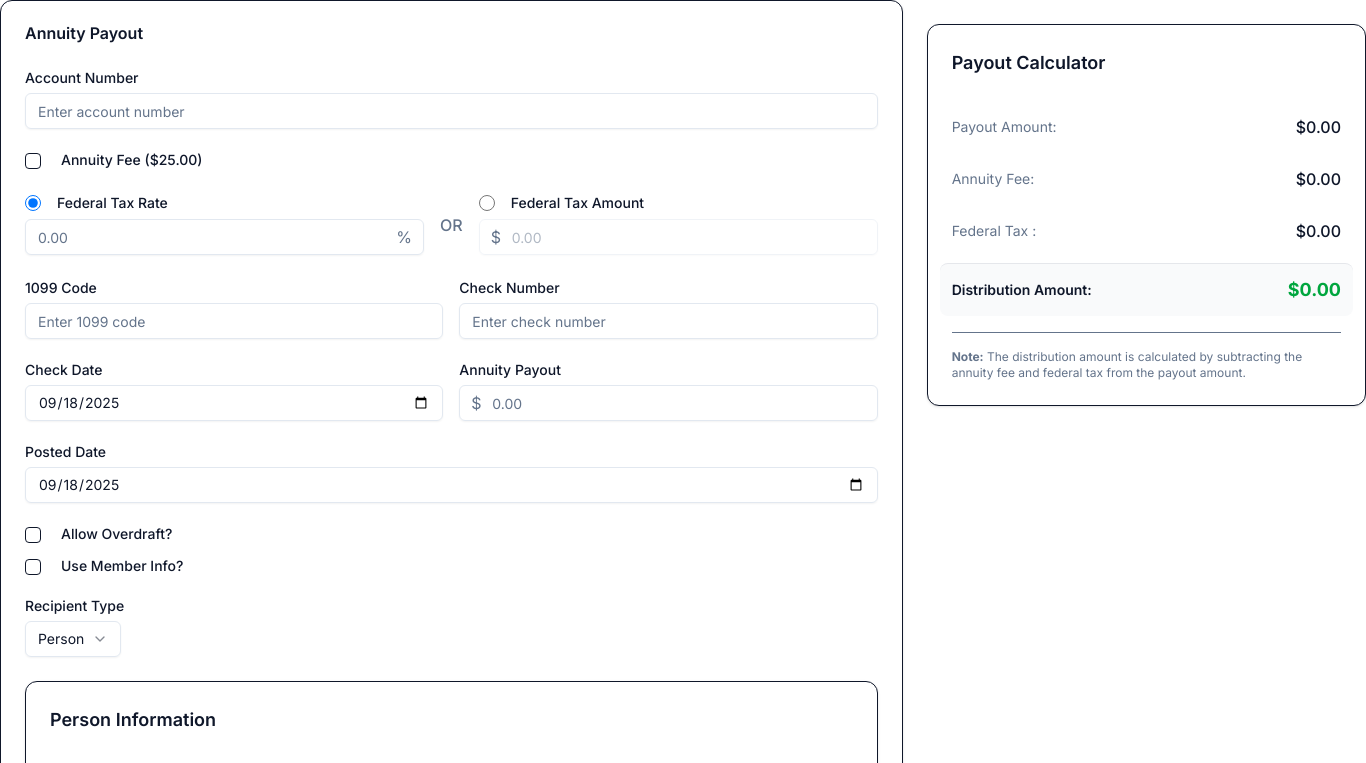
Scenario: AnnuityPayoutForm - Use Member Info Behavior › hides recipient type and person form when "Use Member Info" is checked
This screenshot has width=1366, height=763.
Expected: the text "Recipient Type" is shown, [25,597,124,614]
Expected: the text "Person Information" is shown, [50,709,216,730]
Note: Check the "Use Member Info" checkbox
Click the checkbox named "use member info". click: (33,567)
box: [25,559,41,575]
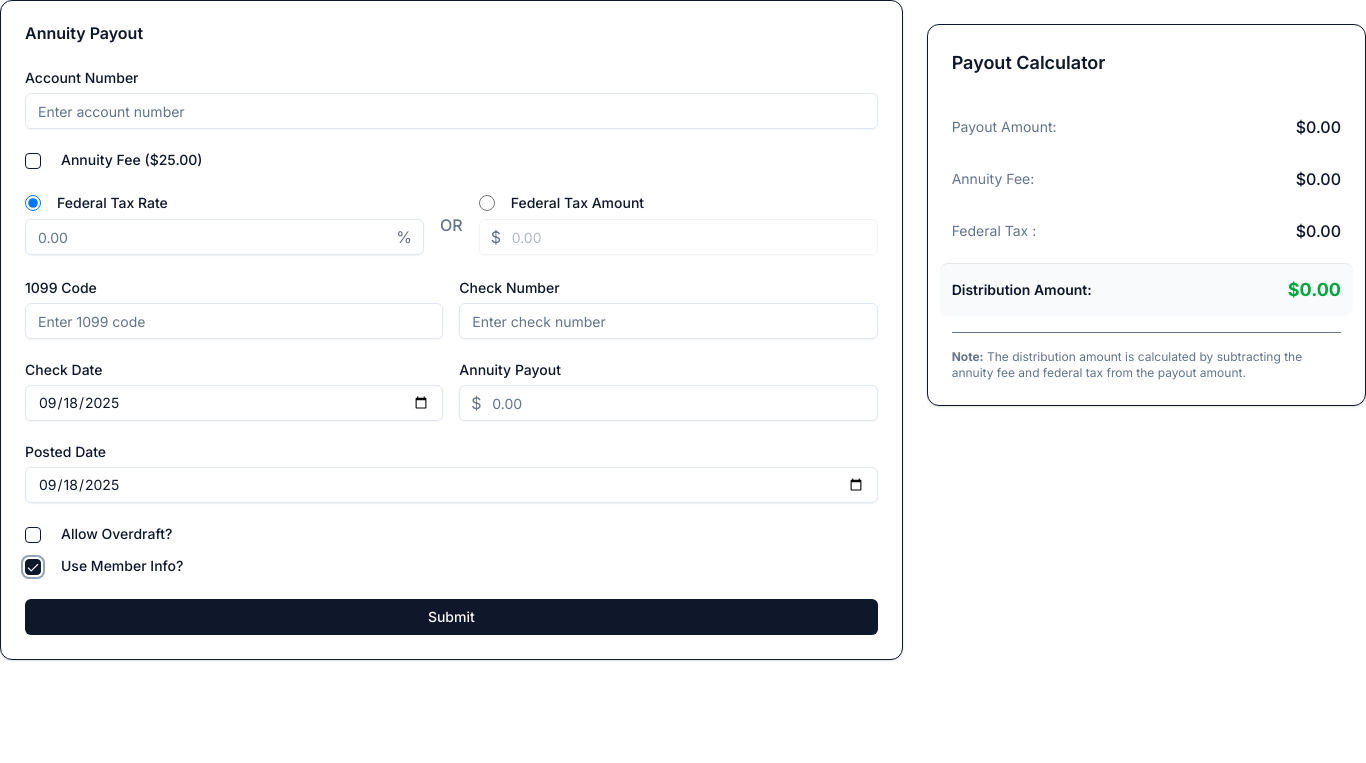
Expected: the text "Recipient Type" is gone
Expected: the text "Person Information" is gone
